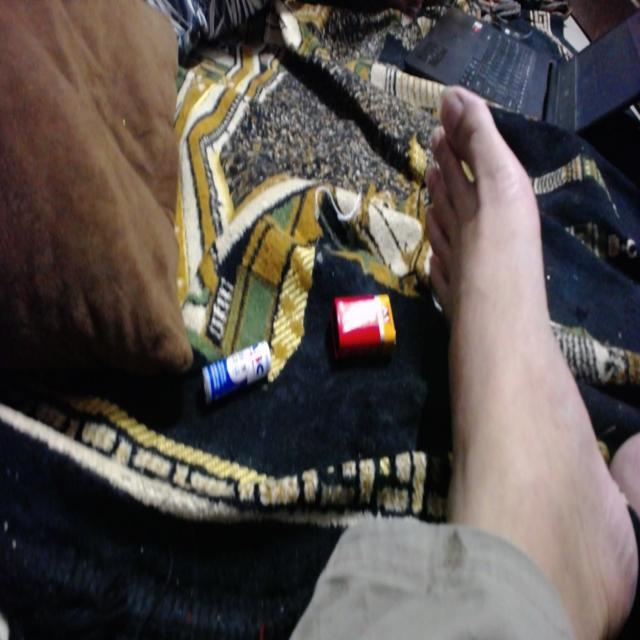9V: (324, 280, 410, 375)
AA: (194, 331, 283, 424)
